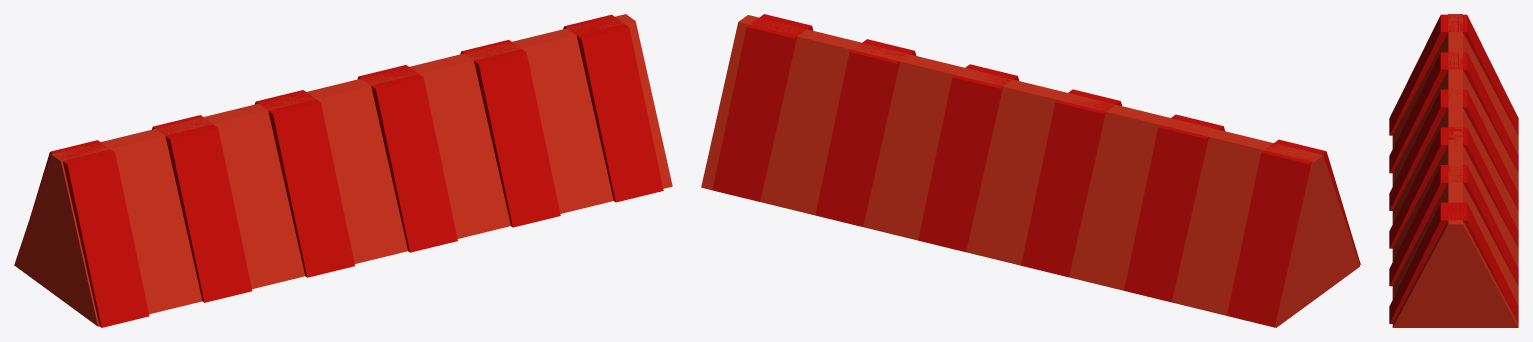
File: Boundry.obj
3 views of the same model, side by side, from view 1: azimuth 30°, elevation 25°; view 2: azimuth 150°, elevation 25°; view 3: azimuth 270°, elevation 25° (orthographic). The views are drawn at different scales.
Parts seen in each view (by area): view 1: Boundry_Cube.003; view 2: Boundry_Cube.003; view 3: Boundry_Cube.003.
Part boxes in pixels (x1,y1,x2,y2): Boundry_Cube.003: [14, 14, 672, 327]; Boundry_Cube.003: [701, 14, 1360, 327]; Boundry_Cube.003: [1389, 14, 1518, 327].
Size of the model in its own units: 3.35 by 0.7713 by 0.8701.
